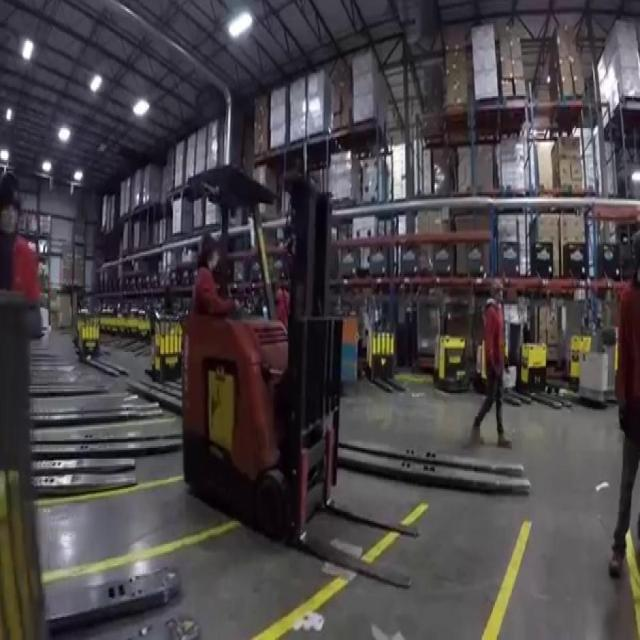forklift: (173, 154, 352, 553)
person: (605, 203, 640, 634), (0, 165, 54, 338), (182, 215, 246, 336), (469, 274, 511, 448)
